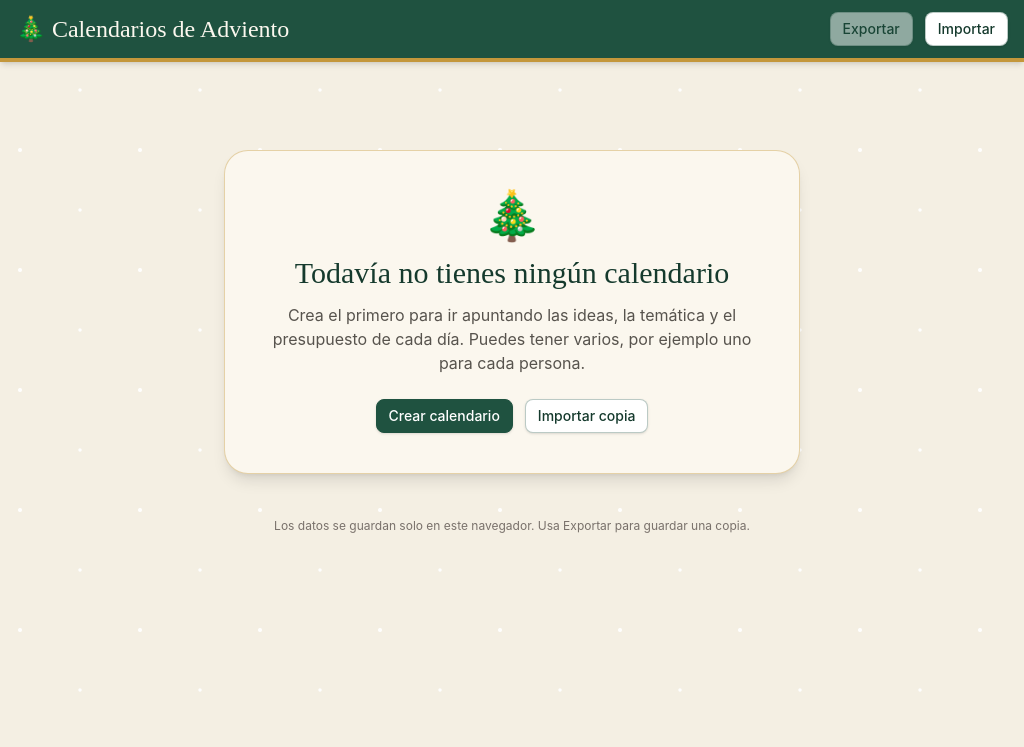
Test: App › crea un calendario con 24 días en rojo
The image size is (1024, 747).
Click the button "Crear calendario" at (444, 416), box [376,399,513,433]
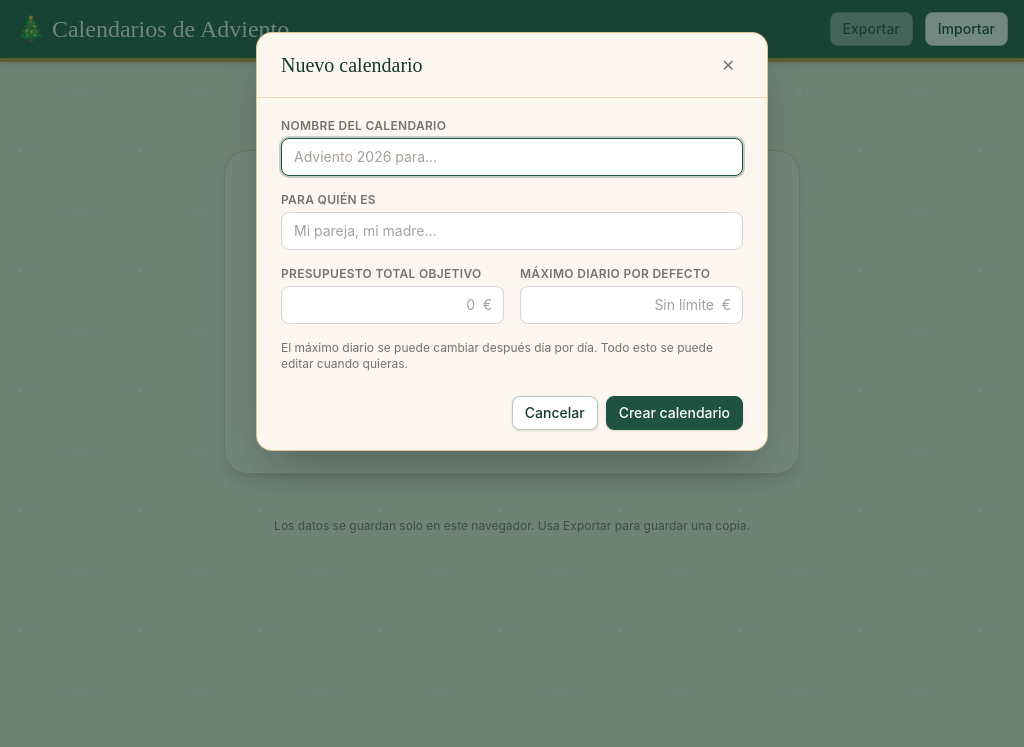
Type "Para mi pareja" into the field labelled "Nombre del calendario" at (512, 157), box [281,138,743,176]
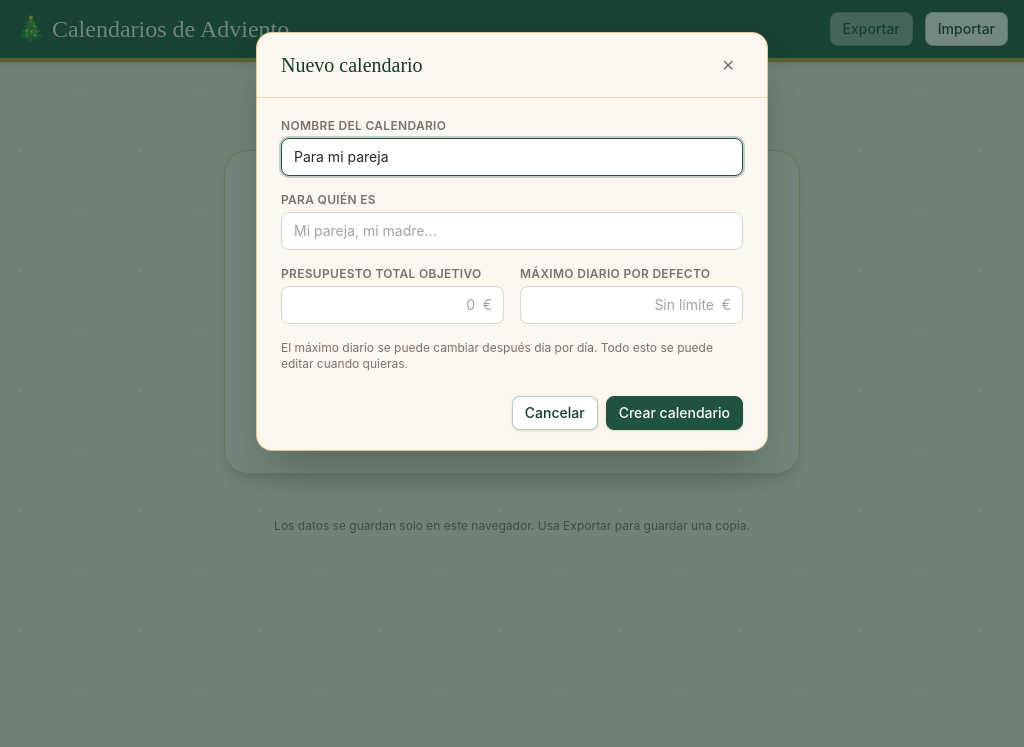
Type "200" into the field labelled "Presupuesto total objetivo" at (392, 305), box [281,286,504,324]
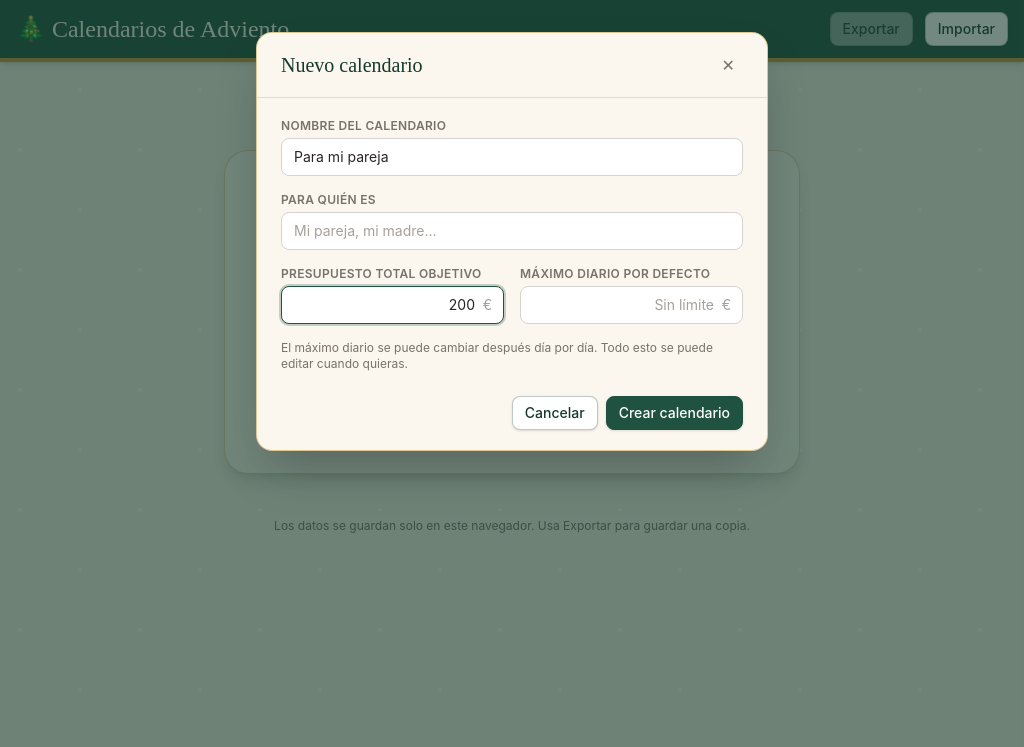
Click the button "Crear calendario" at (674, 413), box [606,396,743,430]
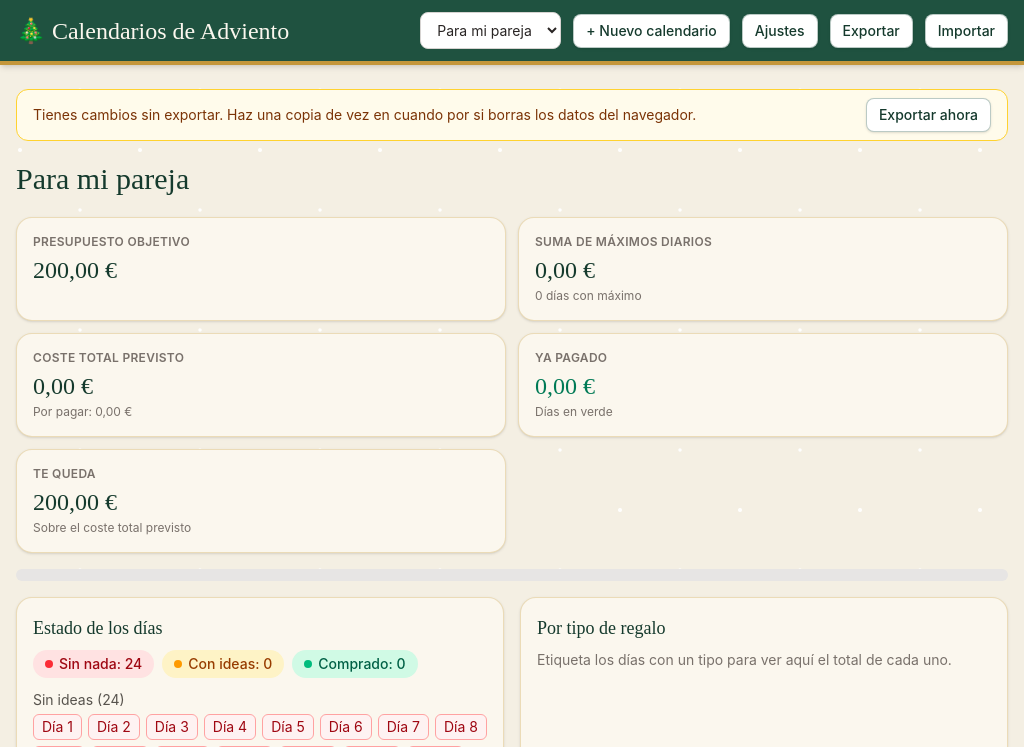
Expected: the heading "Para mi pareja" is shown, [16,162,189,195]
